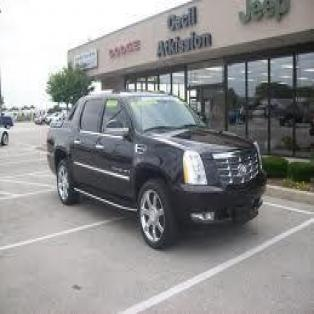Auto: (45, 91, 265, 246)
